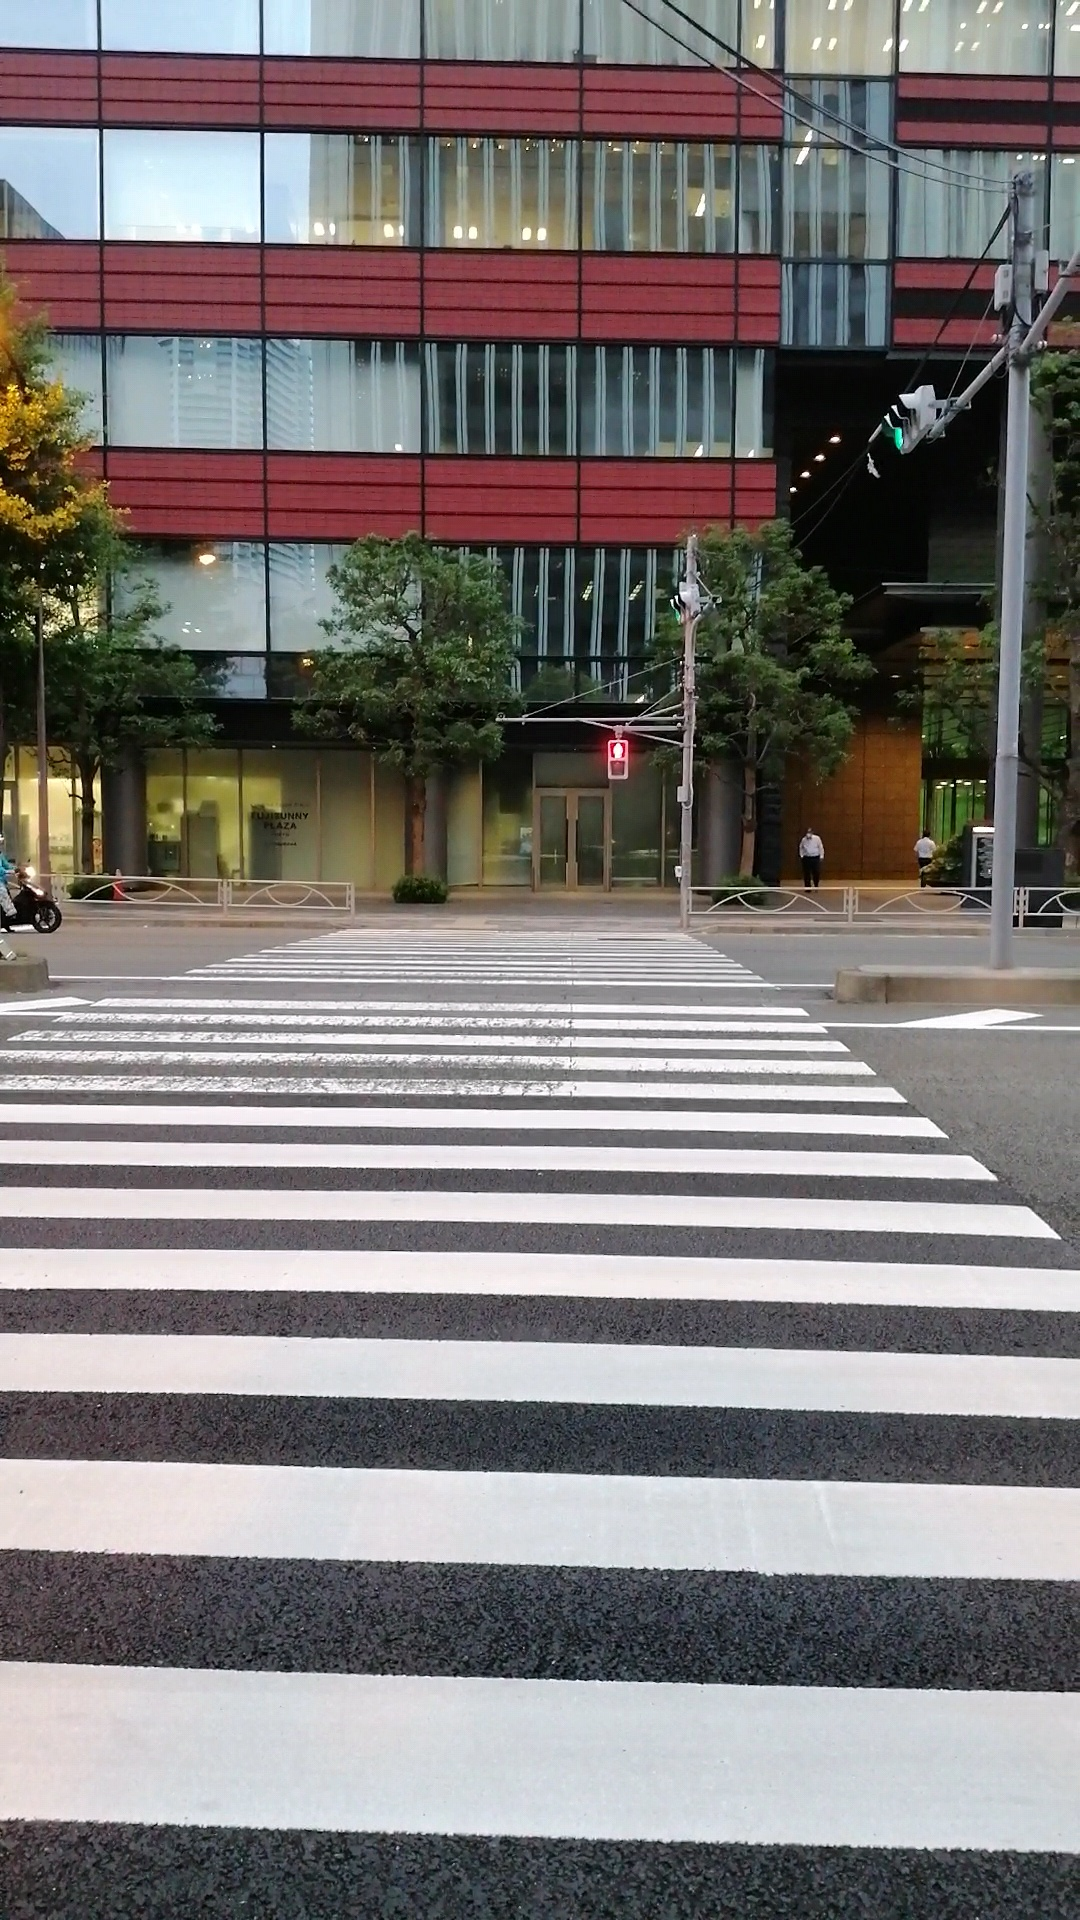red: (604, 738, 628, 781)
